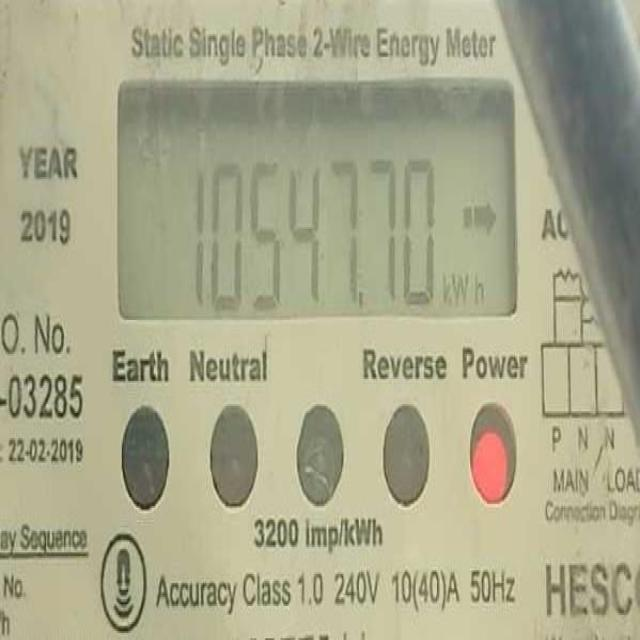0: (403, 142, 435, 312), (210, 160, 244, 315)
1: (194, 166, 209, 304)
4: (284, 160, 326, 311)
5: (250, 155, 283, 309)
7: (368, 151, 400, 305), (329, 158, 361, 303)
Digital meter: (119, 78, 518, 320)
point: (358, 287, 365, 313)
